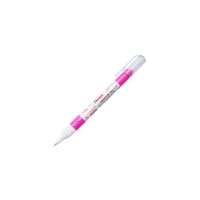Correction_fluid: (48, 52, 148, 150)
